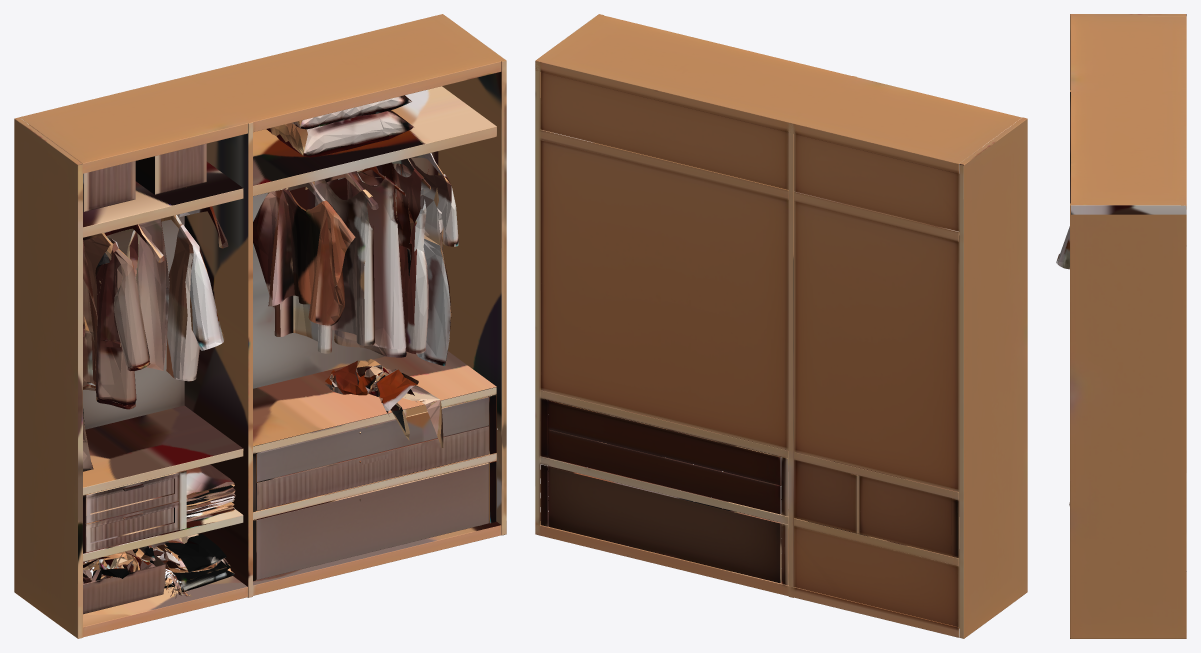
The model's file is edited_mesh.glb.
3 views of the same model, side by side, from view 1: azimuth 30°, elevation 25°; view 2: azimuth 150°, elevation 25°; view 3: azimuth 270°, elevation 25° (orthographic). The views are drawn at different scales.
Parts seen in each view (by area): view 1: solid_001_wire; view 2: solid_001_wire; view 3: solid_001_wire.
Part boxes in pixels (x1,y1,x2,y2): solid_001_wire: (14, 14, 506, 638); solid_001_wire: (535, 14, 1027, 638); solid_001_wire: (1056, 14, 1186, 638).
Size of the model in its own units: 1.28 by 1.36 by 0.3697.
1 material, 1 textured.
